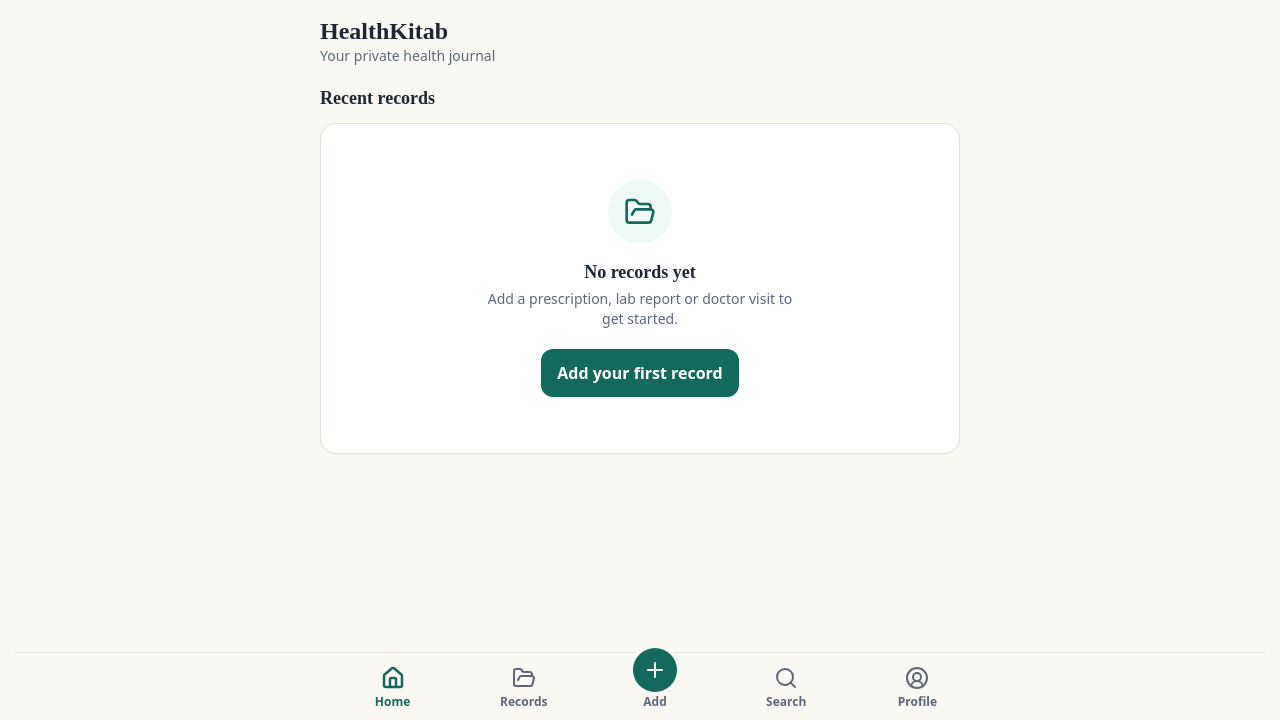
it: record type sheet › closes on Escape
Click the button with aria-label "Add record".
click(655, 686)  # box [589,653,721,719]
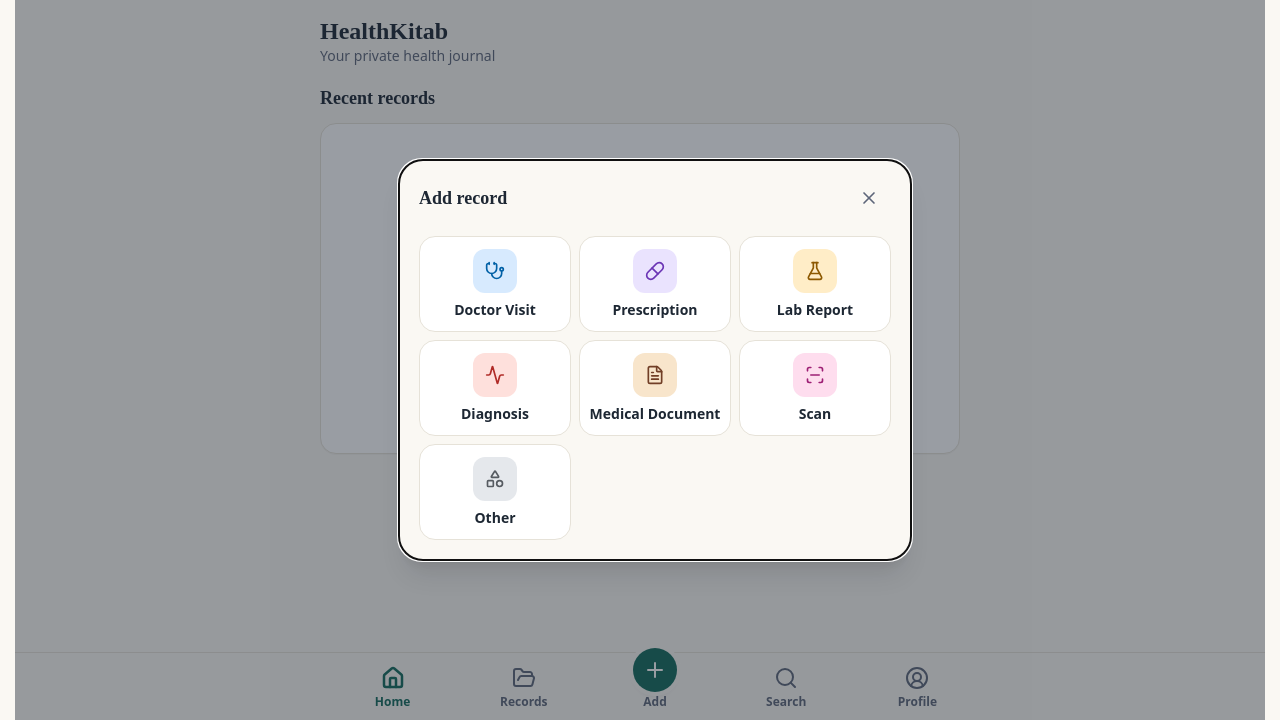
Press Escape
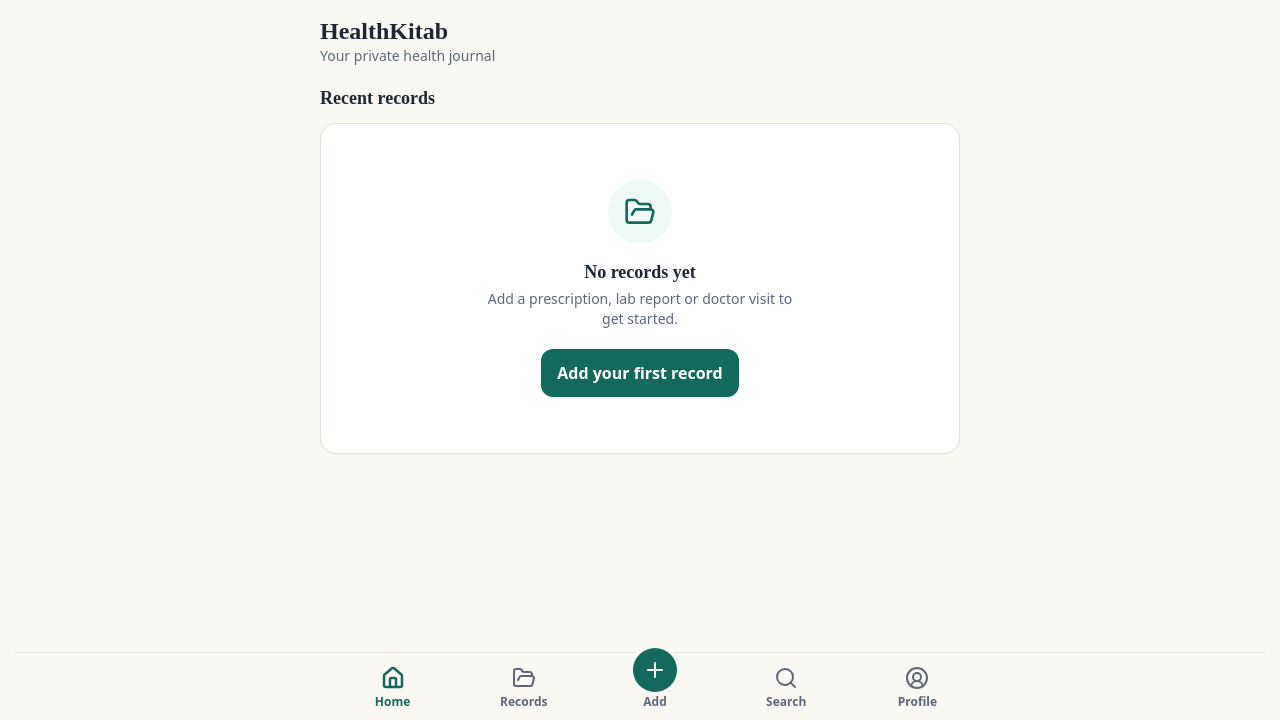
Expected: the dialog is gone
